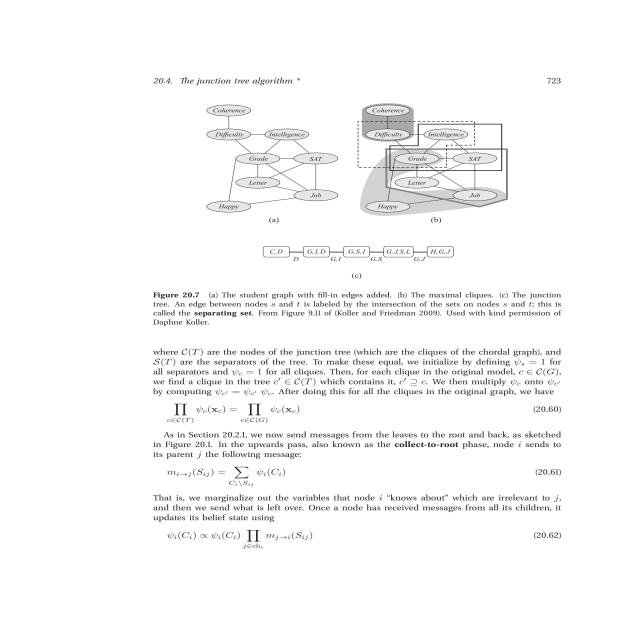diagram: (63, 101, 627, 332)
